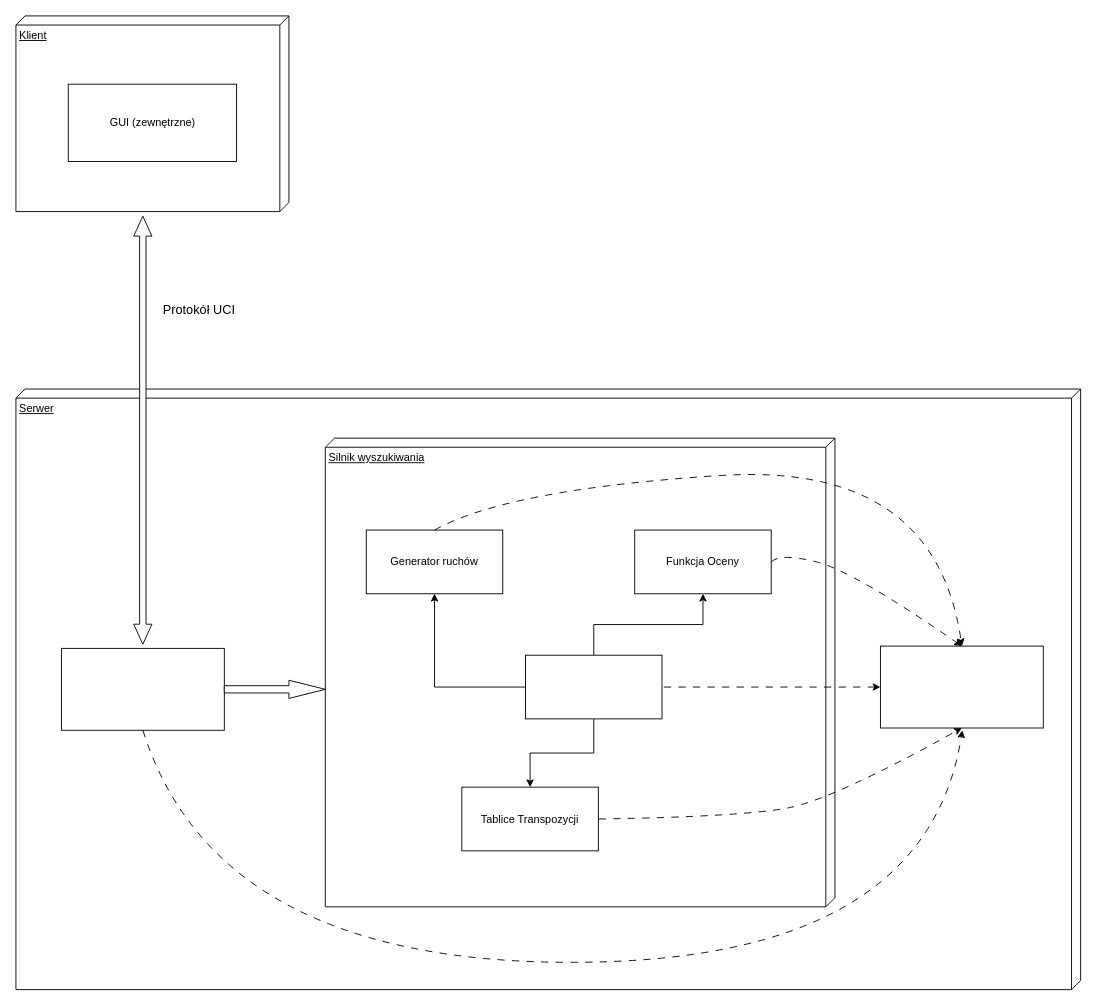
This 1097x1006 diagram has some shape labels left out. Here are the shapes that lost their labels. From the top down, the centre of each, then its label:
At pixel 142 688: "Moduł Komunikacyjny".
At pixel 593 686: "Algorytm Przeszukiwania".
At pixel 961 686: "Reprezentacja planszy".
